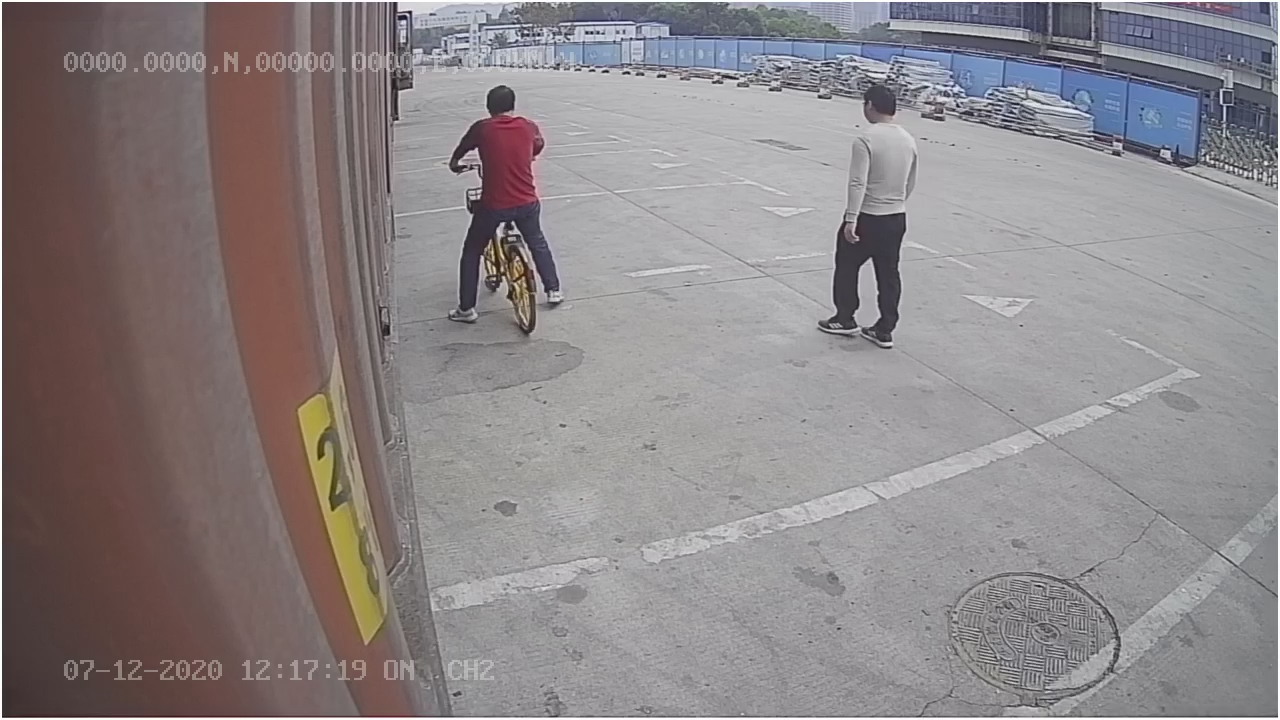person: (813, 82, 922, 349)
